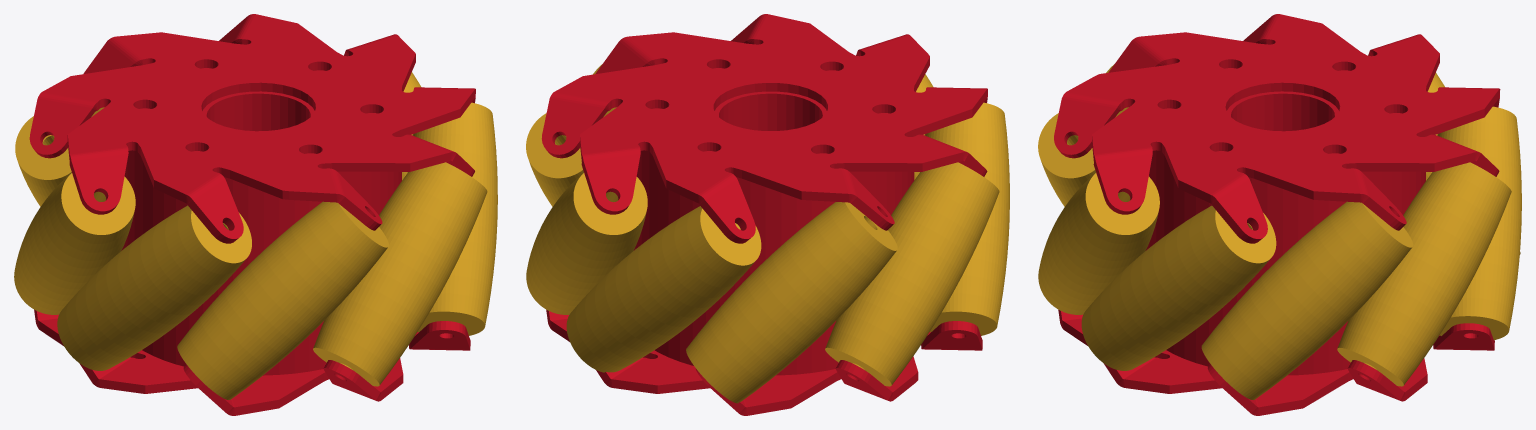
Rendered from IronManWheelLeftFront.dae.
3 renders of one model, left to right at view 1: azimuth 30°, elevation 25°; view 2: azimuth 150°, elevation 25°; view 3: azimuth 270°, elevation 25°, orthographic.
Visible parts, largest first — view 1: mecanum_wheel_left; view 2: mecanum_wheel_left; view 3: mecanum_wheel_left.
Part boxes in pixels (box(x1,y1,x2,y2)): mecanum_wheel_left: box(14, 14, 497, 415); mecanum_wheel_left: box(526, 14, 1009, 415); mecanum_wheel_left: box(1038, 14, 1521, 415).
Size of the model in its own units: 0.208 by 0.2081 by 0.1028.
